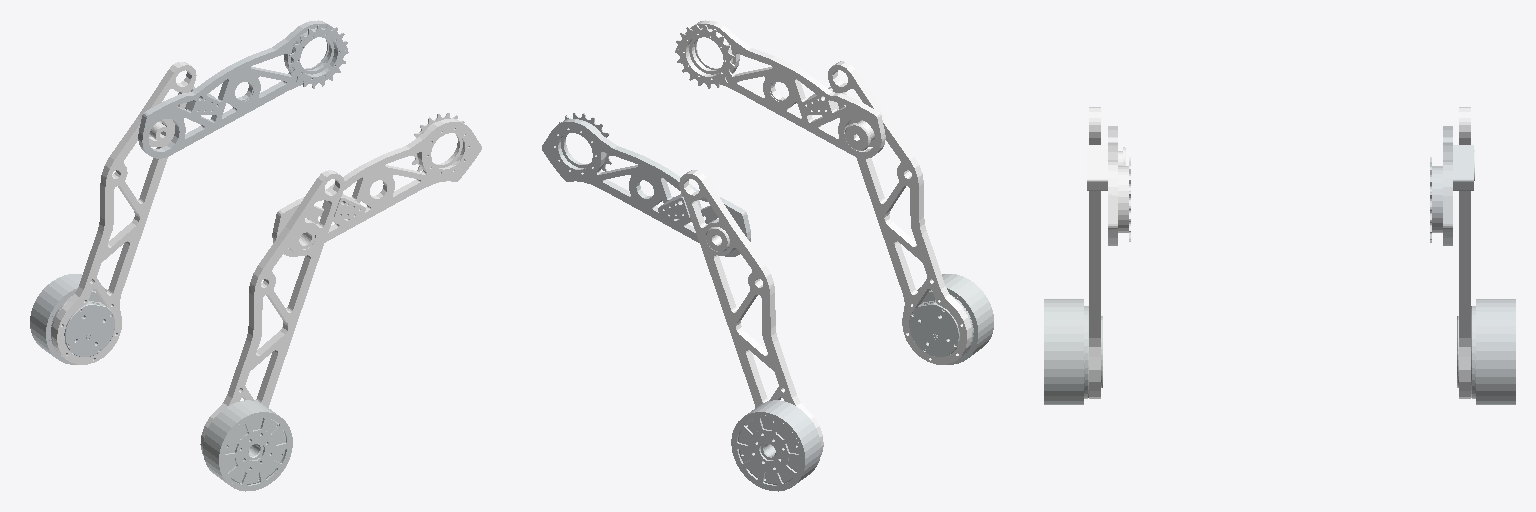
The robot description file, URDF, robot "LW-360 Gen2V1":
<?xml version="1.0" encoding="utf-8"?>
<!-- This URDF was automatically created by SolidWorks to URDF Exporter! Originally created by Stephen Brawner (brawner@gmail.com) 
     Commit Version: 1.6.0-1-g15f4949  Build Version: 1.6.7594.29634
     For more information, please see http://wiki.ros.org/sw_urdf_exporter -->
<robot
  name="LW-360 Gen2V1">
  <link
    name="base_link">
    <inertial>
      <origin
        xyz="-0.0383947 -0.0008525 -0.0655415"
        rpy="0 0 0" />
      <mass
        value= "7.3247159" />
      <inertia
        ixx="0.1185013"
        ixy="0.0000558"
        ixz="0.0037814"
        iyy="0.1507238"
        iyz="0.0004387"
        izz="0.2153489" />
    </inertial>
    <visual>
      <origin
        xyz="0 0 0"
        rpy="0 0 0" />
      <geometry>
        <mesh
          filename="meshes/base_link.STL" />
      </geometry>
      <material
        name="">
        <color
          rgba="1 1 1 1" />
      </material>
    </visual>
    <collision>
      <origin
        xyz="0 0 0"
        rpy="0 0 0" />
      <geometry>
        <mesh
          filename="meshes/base_link.STL" />
      </geometry>
    </collision>
  </link>
  <link
    name="right_thigh_link">
    <inertial>
      <origin
        xyz="-0.0137451473004268 0.0110123343866449 0.0984245547482283"
        rpy="0 0 0" />
      <mass
        value="0.610696054077469" />
      <inertia
        ixx="0.0035478"
        ixy="-0.0000036"
        ixz="0.0003795"
        iyy="0.0037918"
        iyz="0.0000241"
        izz="0.0003382" />
    </inertial>
    <visual>
      <origin
        xyz="0 0 0"
        rpy="0 0 0" />
      <geometry>
        <mesh
          filename="meshes/right_thigh_link.STL" />
      </geometry>
      <material
        name="">
        <color
          rgba="1 1 1 1" />
      </material>
    </visual>
    <collision>
      <origin
        xyz="0 0 0"
        rpy="0 0 0" />
      <geometry>
        <mesh
          filename="meshes/right_thigh_link.STL" />
      </geometry>
    </collision>
  </link>
  <joint
    name="right_thigh_joint"
    type="revolute">
    <origin
      xyz="-0.0337728171221104 -0.164614695167351 -0.0274999999999989"
      rpy="0 0 0" />
    <parent
      link="base_link" />
    <child
      link="right_thigh_link" />
    <axis
      xyz="0 -1 0" />
    <limit
      lower="0.7"
      upper="2.7"
      effort="40"
      velocity="17" />
  </joint>
  <link
    name="right_calf_link">
    <inertial>
      <origin
        xyz="-0.083871 0.0078304 0.047461"
        rpy="0 0 0" />
      <mass
        value="0.3123662" />
      <inertia
        ixx="0.0009584"
        ixy="-0.0000480"
        ixz=" 0.0014136"
        iyy="0.0036658"
        iyz="0.0000271"
        izz="0.0027379" />
    </inertial>
    <visual>
      <origin
        xyz="0 0 0"
        rpy="0 0 0" />
      <geometry>
        <mesh
          filename="meshes/right_calf_link.STL" />
      </geometry>
      <material
        name="">
        <color
          rgba="1 1 1 1" />
      </material>
    </visual>
    <collision>
      <origin
        xyz="0 0 0"
        rpy="0 0 0" />
      <geometry>
        <mesh
          filename="meshes/right_calf_link.STL" />
      </geometry>
    </collision>
  </link>
  <joint
    name="right_calf_joint"
    type="revolute">
    <origin
      xyz="-0.0331636364236594 -0.0184999999999837 0.212426865577682"
      rpy="0 0 0" />
    <parent
      link="right_thigh_link" />
    <child
      link="right_calf_link" />
    <axis
      xyz="0 1 0" />
    <limit
      lower="-2.1"
      upper="0.9"
      effort="40"
      velocity="17" />
  </joint>
  <link
    name="right_foot_link">
    <inertial>
      <origin
        xyz="-0.0000015 0.0197779 -0.0000114"
        rpy="0 0 0" />
      <mass
        value="1.1015508" />
      <inertia
        ixx="0.0008532"
        ixy="0"
        ixz="0.0000002"
        iyy="0.0013495"
        iyz="0"
        izz="0.0008535" />
    </inertial>
    <visual>
      <origin
        xyz="0 0 0"
        rpy="0 0 0" />
      <geometry>
        <mesh
          filename="meshes/right_foot_link.STL" />
      </geometry>
      <material
        name="">
        <color
          rgba="0.90196 0.92157 0.92157 1" />
      </material>
    </visual>
    <collision>
      <origin
        xyz="0 0 0"
        rpy="0 0 0" />
      <geometry>
        <mesh
          filename="meshes/right_foot_link.STL" />
      </geometry>
    </collision>
  </link>
  <joint
    name="right_foot_joint"
    type="continuous">
    <origin
      xyz="-0.226463894503409 -0.0391999999999997 0.123604629712413"
      rpy="0 0 0" />
    <parent
      link="right_calf_link" />
    <child
      link="right_foot_link" />
    <axis
      xyz="0 1 0" />
  </joint>
  <link
    name="left_thigh_link">
    <inertial>
      <origin
        xyz="-0.012613 -0.0050895 0.09005"
        rpy="0 0 0" />
      <mass
        value="0.29712" />
      <inertia
        ixx="0.0018968"
        ixy="0.0000084"
        ixz="0.0002054"
        iyy="0.0020314"
        iyz="-0.0000748"
        izz="0.0001675" />
    </inertial>
    <visual>
      <origin
        xyz="0 0 0"
        rpy="0 0 0" />
      <geometry>
        <mesh
          filename="meshes/left_thigh_link.STL" />
      </geometry>
      <material
        name="">
        <color
          rgba="0.89804 0.91765 0.92941 1" />
      </material>
    </visual>
    <collision>
      <origin
        xyz="0 0 0"
        rpy="0 0 0" />
      <geometry>
        <mesh
          filename="meshes/left_thigh_link.STL" />
      </geometry>
    </collision>
  </link>
  <joint
    name="left_thigh_joint"
    type="revolute">
    <origin
      xyz="-0.0337728171222443 0.165388304832666 -0.0275000000000591"
      rpy="0 0 0" />
    <parent
      link="base_link" />
    <child
      link="left_thigh_link" />
    <axis
      xyz="0 1 0" />
    <limit
      lower="-2.7"
      upper="-0.7"
      effort="40"
      velocity="17" />
  </joint>
  <link
    name="left_calf_link">
    <inertial>
      <origin
        xyz="-0.089546 -0.006239 0.050672"
        rpy="0 0 0" />
      <mass
        value="0.29257" />
      <inertia
        ixx="0.0008990"
        ixy="0.0000063"
        ixz="0.0013295"
        iyy="0.0034662"
        iyz="-0.0000035"
        izz="0.0025774" />
    </inertial>
    <visual>
      <origin
        xyz="0 0 0"
        rpy="0 0 0" />
      <geometry>
        <mesh
          filename="meshes/left_calf_link.STL" />
      </geometry>
      <material
        name="">
        <color
          rgba="1 1 1 1" />
      </material>
    </visual>
    <collision>
      <origin
        xyz="0 0 0"
        rpy="0 0 0" />
      <geometry>
        <mesh
          filename="meshes/left_calf_link.STL" />
      </geometry>
    </collision>
  </link>
  <joint
    name="left_calf_joint"
    type="revolute">
    <origin
      xyz="-0.0331636364235269 0.0174999999999982 0.212426865577748"
      rpy="0 0 0" />
    <parent
      link="left_thigh_link" />
    <child
      link="left_calf_link" />
    <axis
      xyz="0 -1 0" />
    <limit
      lower="-0.9"
      upper="2.1"
      effort="40"
      velocity="17" />
  </joint>
  <link
    name="left_foot_link">
    <inertial>
      <origin
        xyz="0.0000087  -0.0197779  0.0000074"
        rpy="0 0 0" />
      <mass
        value="1.1015508" />
      <inertia
        ixx="0.0008533"
        ixy="0.0"
        ixz="0.0000002"
        iyy="0.0013495"
        iyz="0.0000000"
        izz="0.0008535" />
    </inertial>
    <visual>
      <origin
        xyz="0 0 0"
        rpy="0 0 0" />
      <geometry>
        <mesh
          filename="meshes/left_foot_link.STL" />
      </geometry>
      <material
        name="">
        <color
          rgba="0.89804 0.91765 0.92941 1" />
      </material>
    </visual>
    <collision>
      <origin
        xyz="0 0 0"
        rpy="0 0 0" />
      <geometry>
        <mesh
          filename="meshes/left_foot_link.STL" />
      </geometry>
    </collision>
  </link>
  <joint
    name="left_foot_joint"
    type="continuous">
    <origin
      xyz="-0.226463894503409 0.039200000000002 0.123604629712404"
      rpy="0 0 0" />
    <parent
      link="left_calf_link" />
    <child
      link="left_foot_link" />
    <axis
      xyz="0 -1 0" />
  </joint>
</robot>

--- What the picture shows (computed from the rendered views, not written in the file) ---
3 views of the same robot in one strip: view 1: azimuth 30°, elevation 25°; view 2: azimuth 150°, elevation 25°; view 3: azimuth 270°, elevation 25° (orthographic).
Robot: LW-360 Gen2V1 — 7 links, 6 joints (4 revolute, 2 continuous); root link base_link; default pose: joints at zero except 2 at the middle of their limits (right_thigh_joint = 1.7, left_thigh_joint = -1.7).
Visible links, largest first — view 1: left_thigh_link, left_calf_link, right_calf_link, right_thigh_link, right_foot_link, left_foot_link; view 2: right_calf_link, right_thigh_link, left_calf_link, left_thigh_link, left_foot_link, right_foot_link; view 3: right_foot_link, left_foot_link, right_calf_link, left_thigh_link, right_thigh_link, left_calf_link.
Boxes of the visible links, box(x1,y1,x2,y2) form: left_thigh_link: box(138, 20, 348, 158); left_calf_link: box(52, 62, 196, 364); right_calf_link: box(200, 170, 344, 455); right_thigh_link: box(272, 113, 481, 256); right_foot_link: box(203, 400, 292, 491); left_foot_link: box(30, 274, 114, 364); right_calf_link: box(828, 61, 971, 364); right_thigh_link: box(675, 20, 885, 158); left_calf_link: box(679, 170, 823, 454); left_thigh_link: box(542, 113, 750, 256); left_foot_link: box(731, 400, 820, 491); right_foot_link: box(909, 274, 993, 364); right_foot_link: box(1044, 299, 1102, 404); left_foot_link: box(1457, 299, 1515, 404); right_calf_link: box(1089, 107, 1125, 398); left_thigh_link: box(1430, 126, 1473, 245); right_thigh_link: box(1087, 126, 1130, 245); left_calf_link: box(1459, 107, 1474, 398).
Size in the robot's own frame: 0.3974 by 0.4504 by 0.3927 metres.
6 mesh visuals loaded from 7 distinct referenced files (6 binary STL); not drawn: 1 (reference not matched to a file when rendering).
